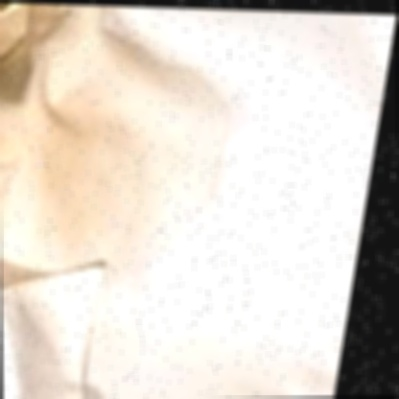coffee: (0, 38, 127, 189)
